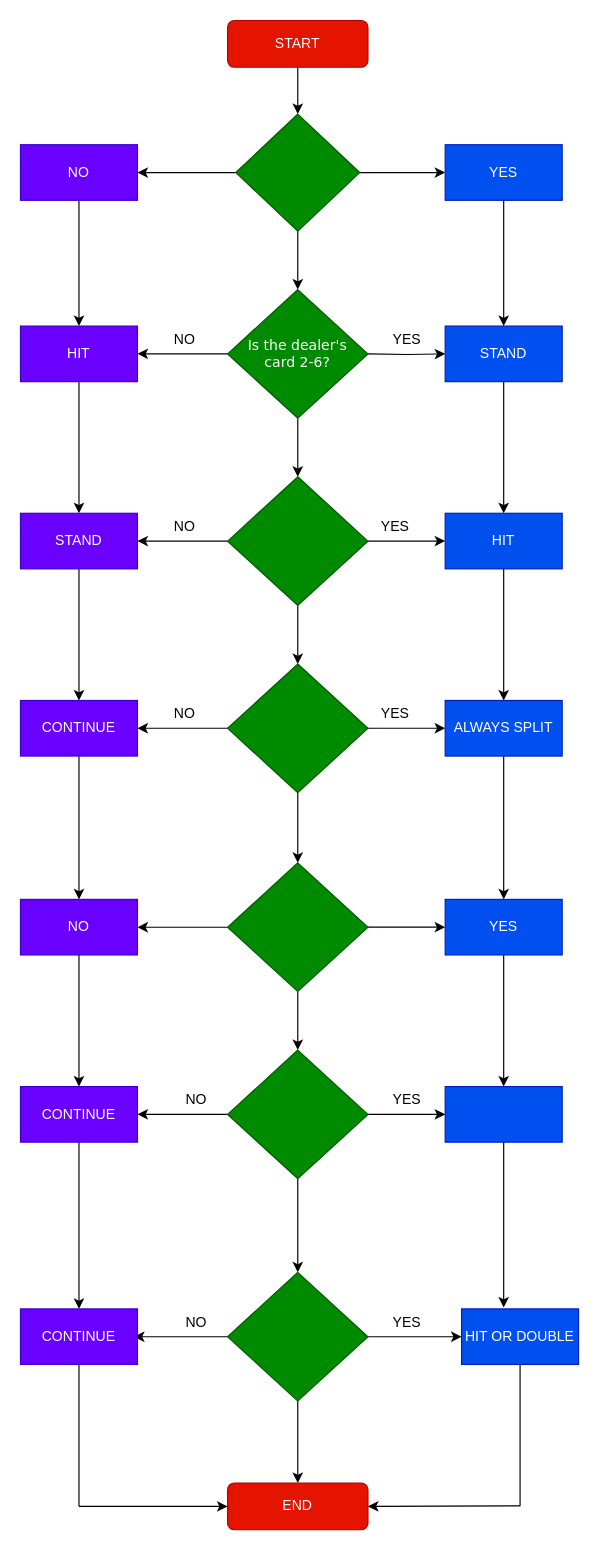
Image size: 599x1550. Some labels were removed from this diagram. Each missing label, with the centre of its shape:
"DOUBLE DOWN" goes at (503,1113).
"Is the dealer's card 2-10?" goes at (297,1114).
"Is the dealer's card 7-ace?" goes at (297,540).
"Is your hand 11?" goes at (297,927).
"Is your hand aces or 8s?" goes at (297,728).
"Is your hand aces-6?" goes at (297,1336).
"Is your hand has 12-16?" goes at (297,172).
